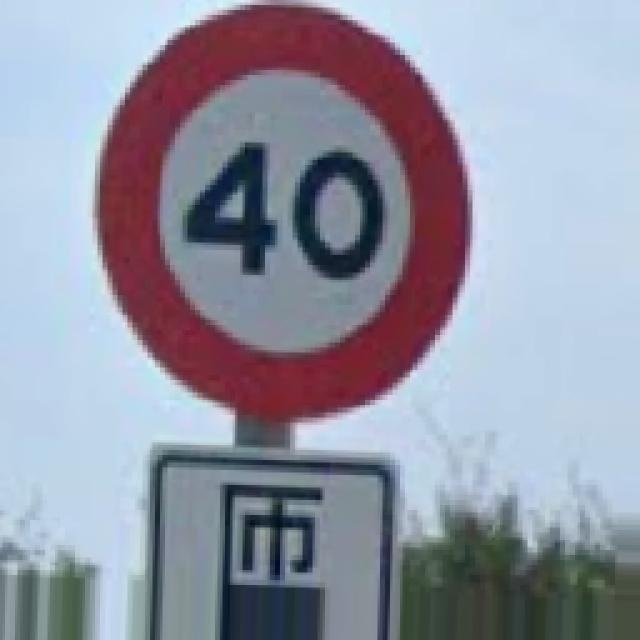Speed Limit -40-: (100, 8, 468, 420)
